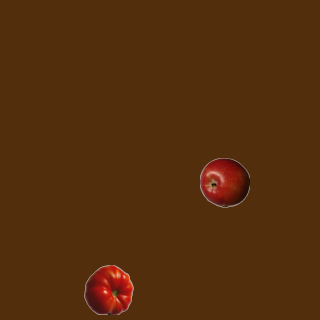Apple Braeburn: (199, 157, 249, 207)
Tomato 3: (83, 264, 133, 314)
